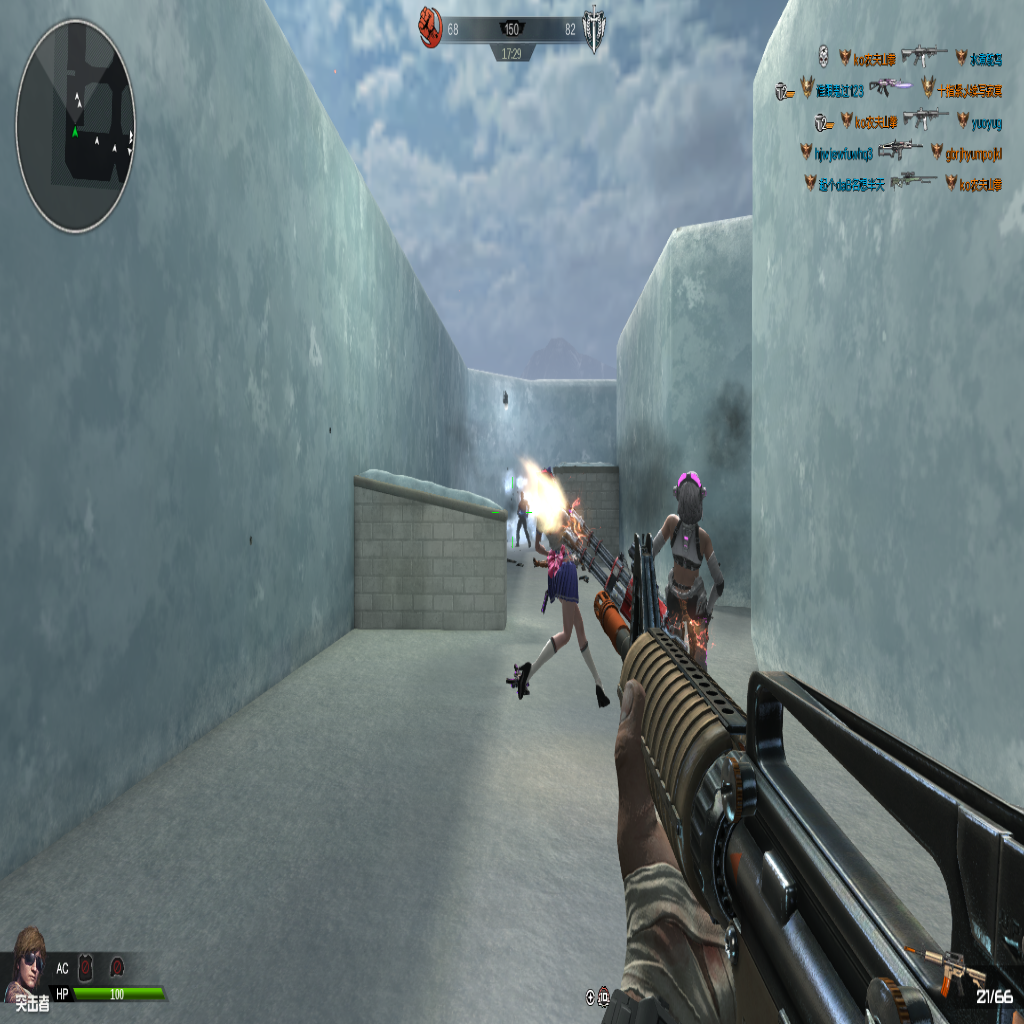ct: (515, 489, 532, 550)
